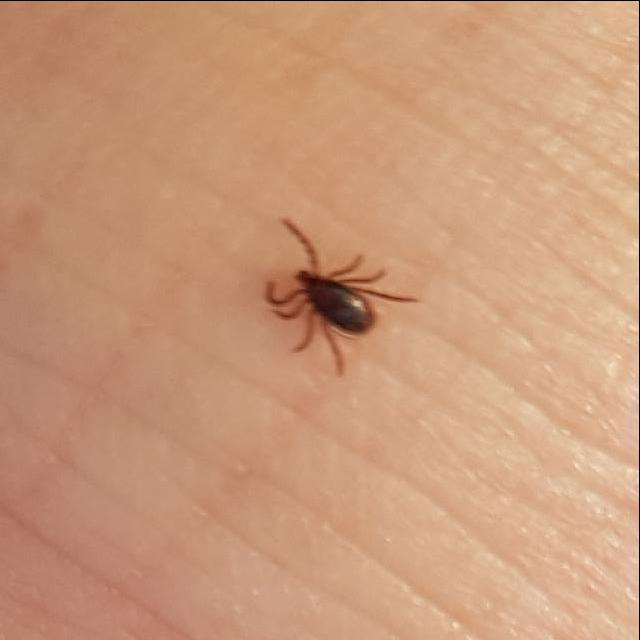Ixodes Ricinus-M: (264, 216, 421, 375)
